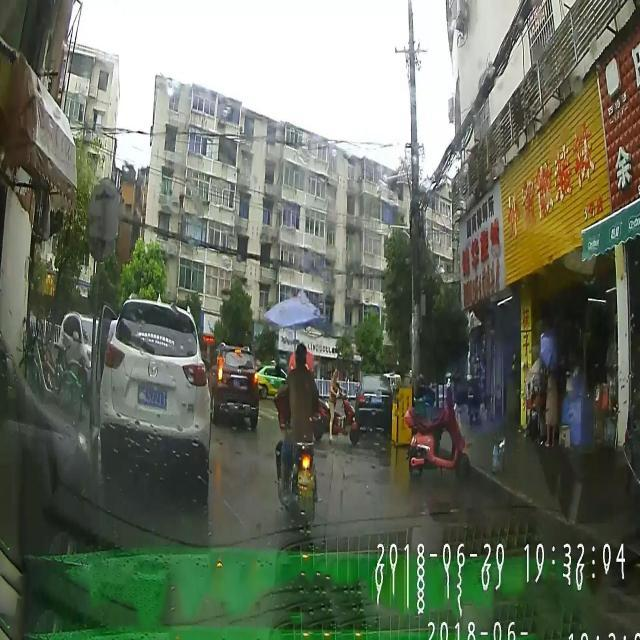car: (88, 298, 212, 488), (208, 343, 259, 430), (356, 369, 394, 435)
